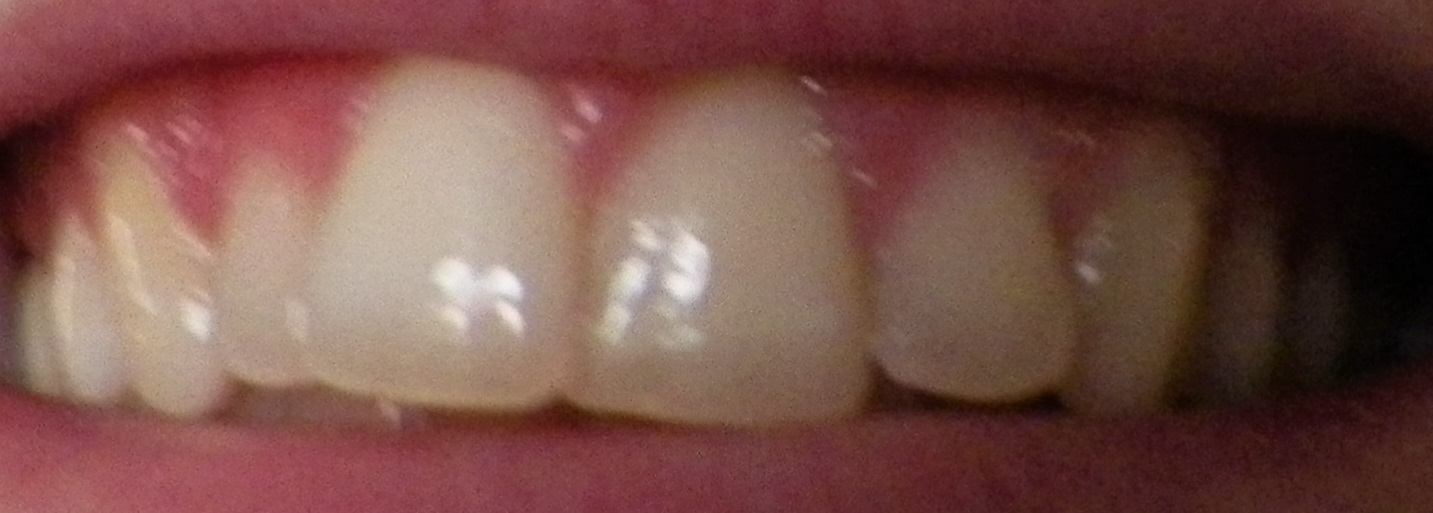boca: (11, 63, 1296, 430)
